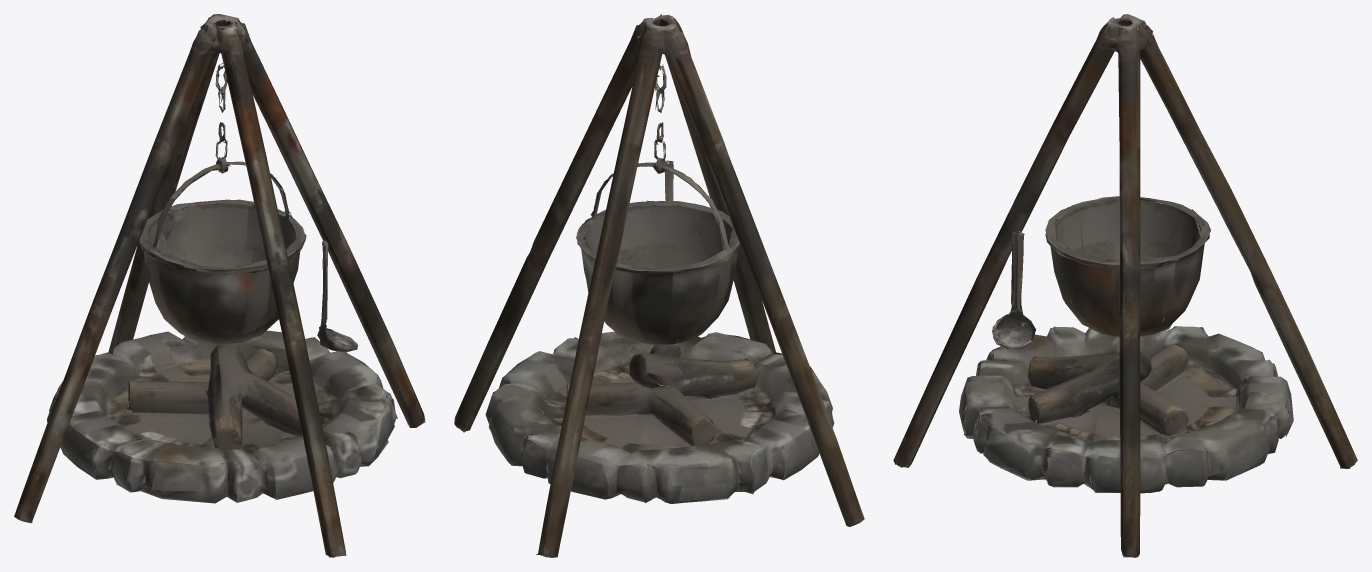
Rendered from prop_field_kitchen.glb.
The picture shows the model from 3 angles, left to right: view 1: azimuth 30°, elevation 25°; view 2: azimuth 150°, elevation 25°; view 3: azimuth 270°, elevation 25°; orthographic projection. The views are drawn at different scales.
Parts seen in each view (by area): view 1: prop_field_kitchen; view 2: prop_field_kitchen; view 3: prop_field_kitchen.
Boxes of the visible parts, left/top/right/bottom form: prop_field_kitchen: left=14, top=14, right=425, bottom=557; prop_field_kitchen: left=454, top=14, right=864, bottom=557; prop_field_kitchen: left=893, top=14, right=1357, bottom=557.
Bounding box in the file's own units: 1.59 × 1.7 × 1.6.
Materials: 1 (1 with a texture image).
